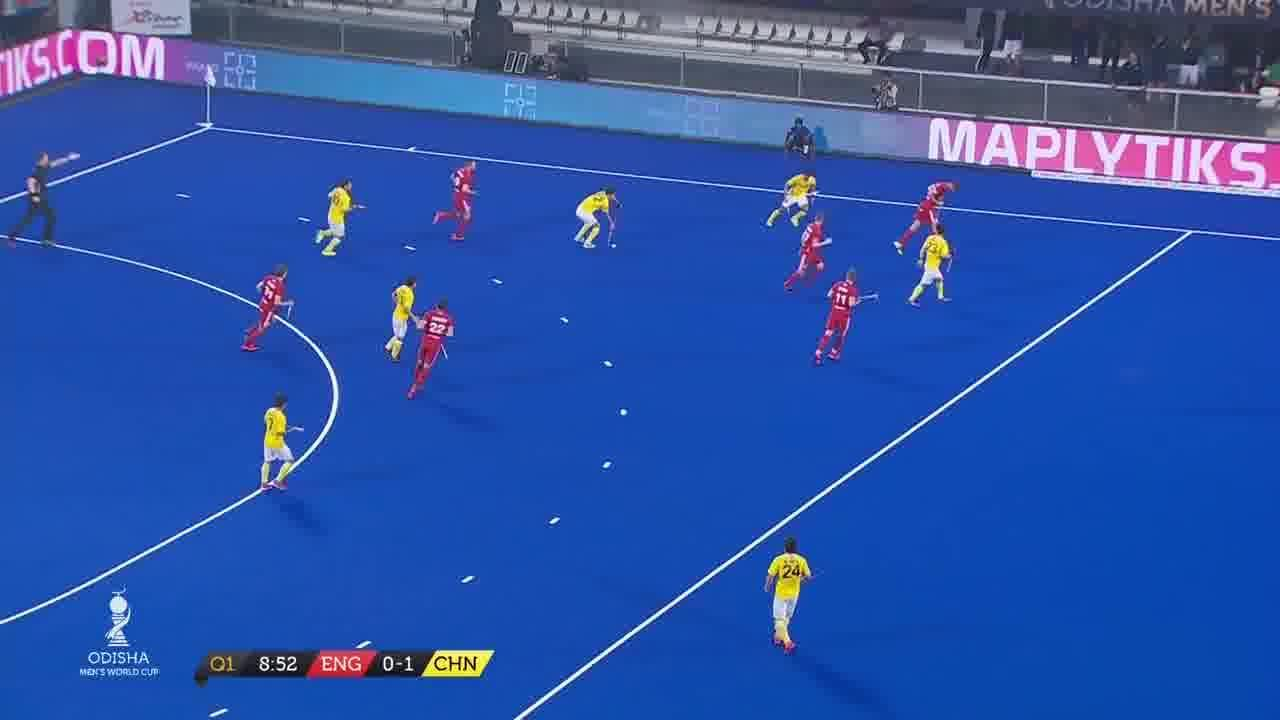ball: (610, 242, 618, 249)
